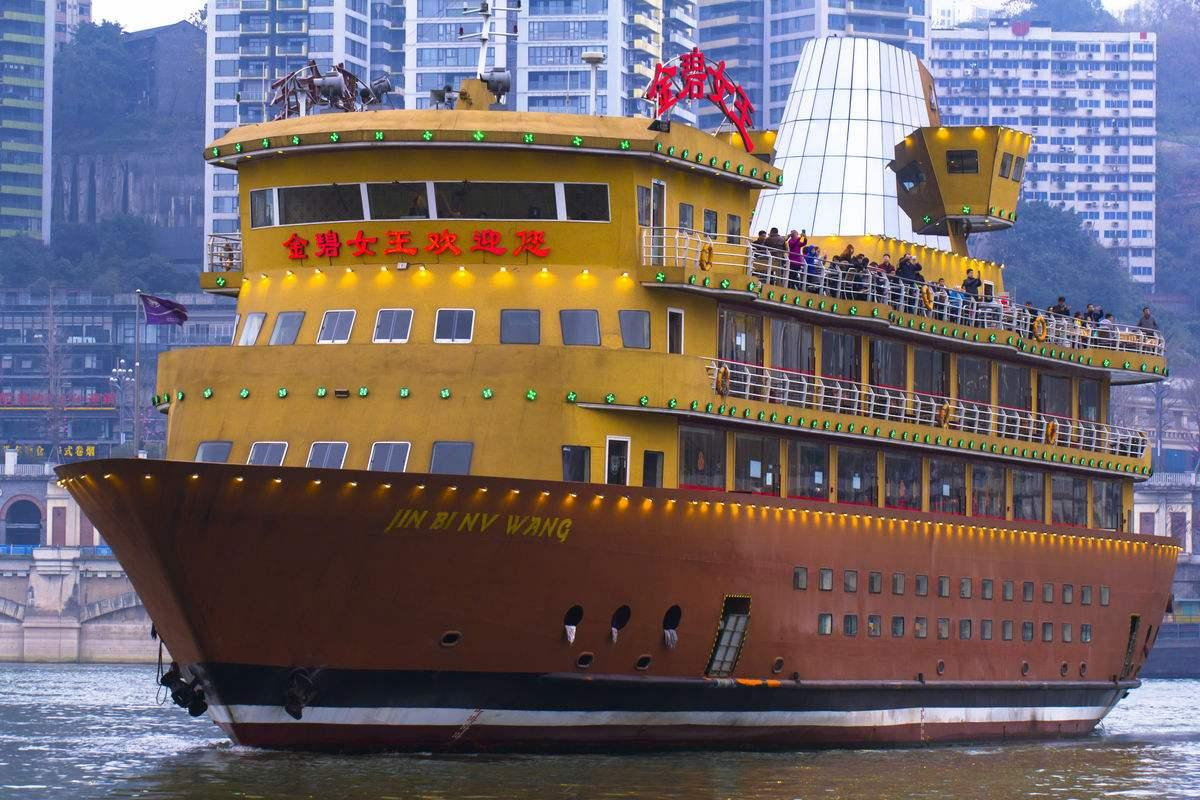youlun: (33, 44, 1180, 749)
